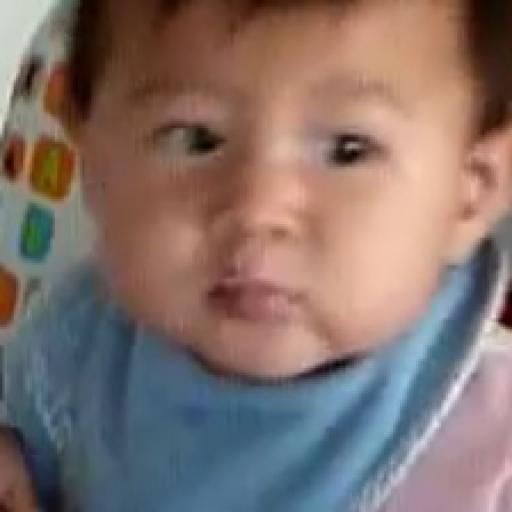Autism: (51, 0, 501, 403)
